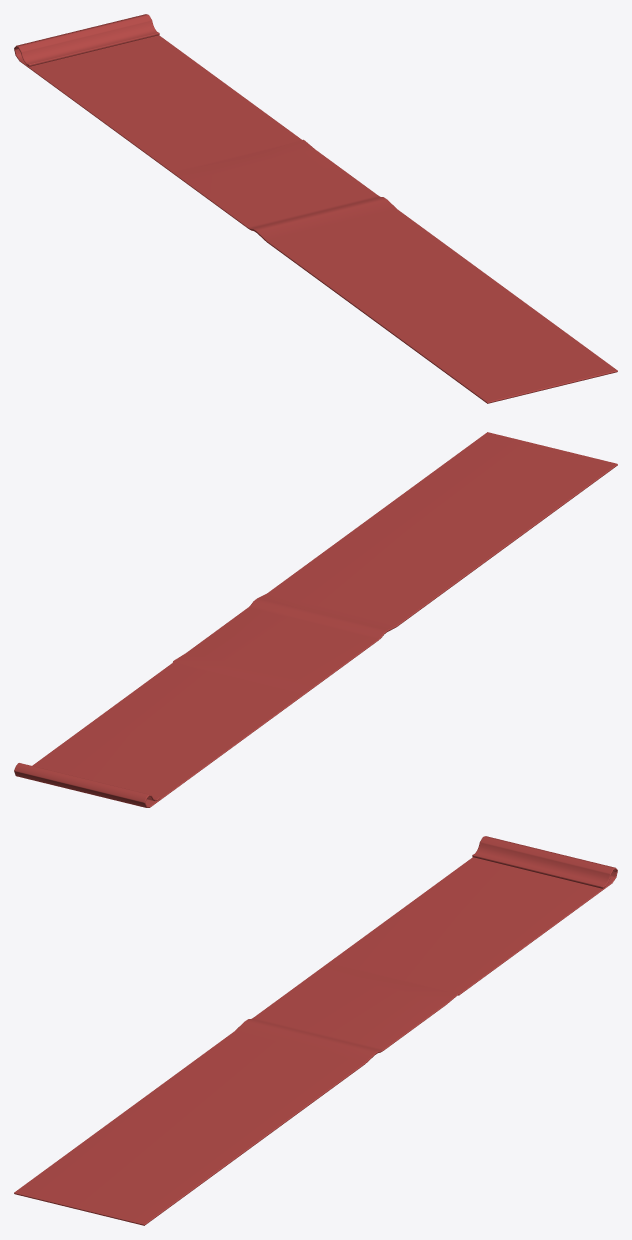
The model's file is Teppich.fbx.
3 views of the same model, one above another, from view 1: azimuth 30°, elevation 25°; view 2: azimuth 150°, elevation 25°; view 3: azimuth 330°, elevation 25° (orthographic).
Visible parts, largest first — view 1: Teppich; view 2: Teppich; view 3: Teppich.
Part boxes in pixels (<box>): Teppich: <box>14,14,617,403</box>; Teppich: <box>14,432,617,807</box>; Teppich: <box>14,836,617,1225</box>.
Size of the model in its own units: 200 by 20.78 by 1252.
